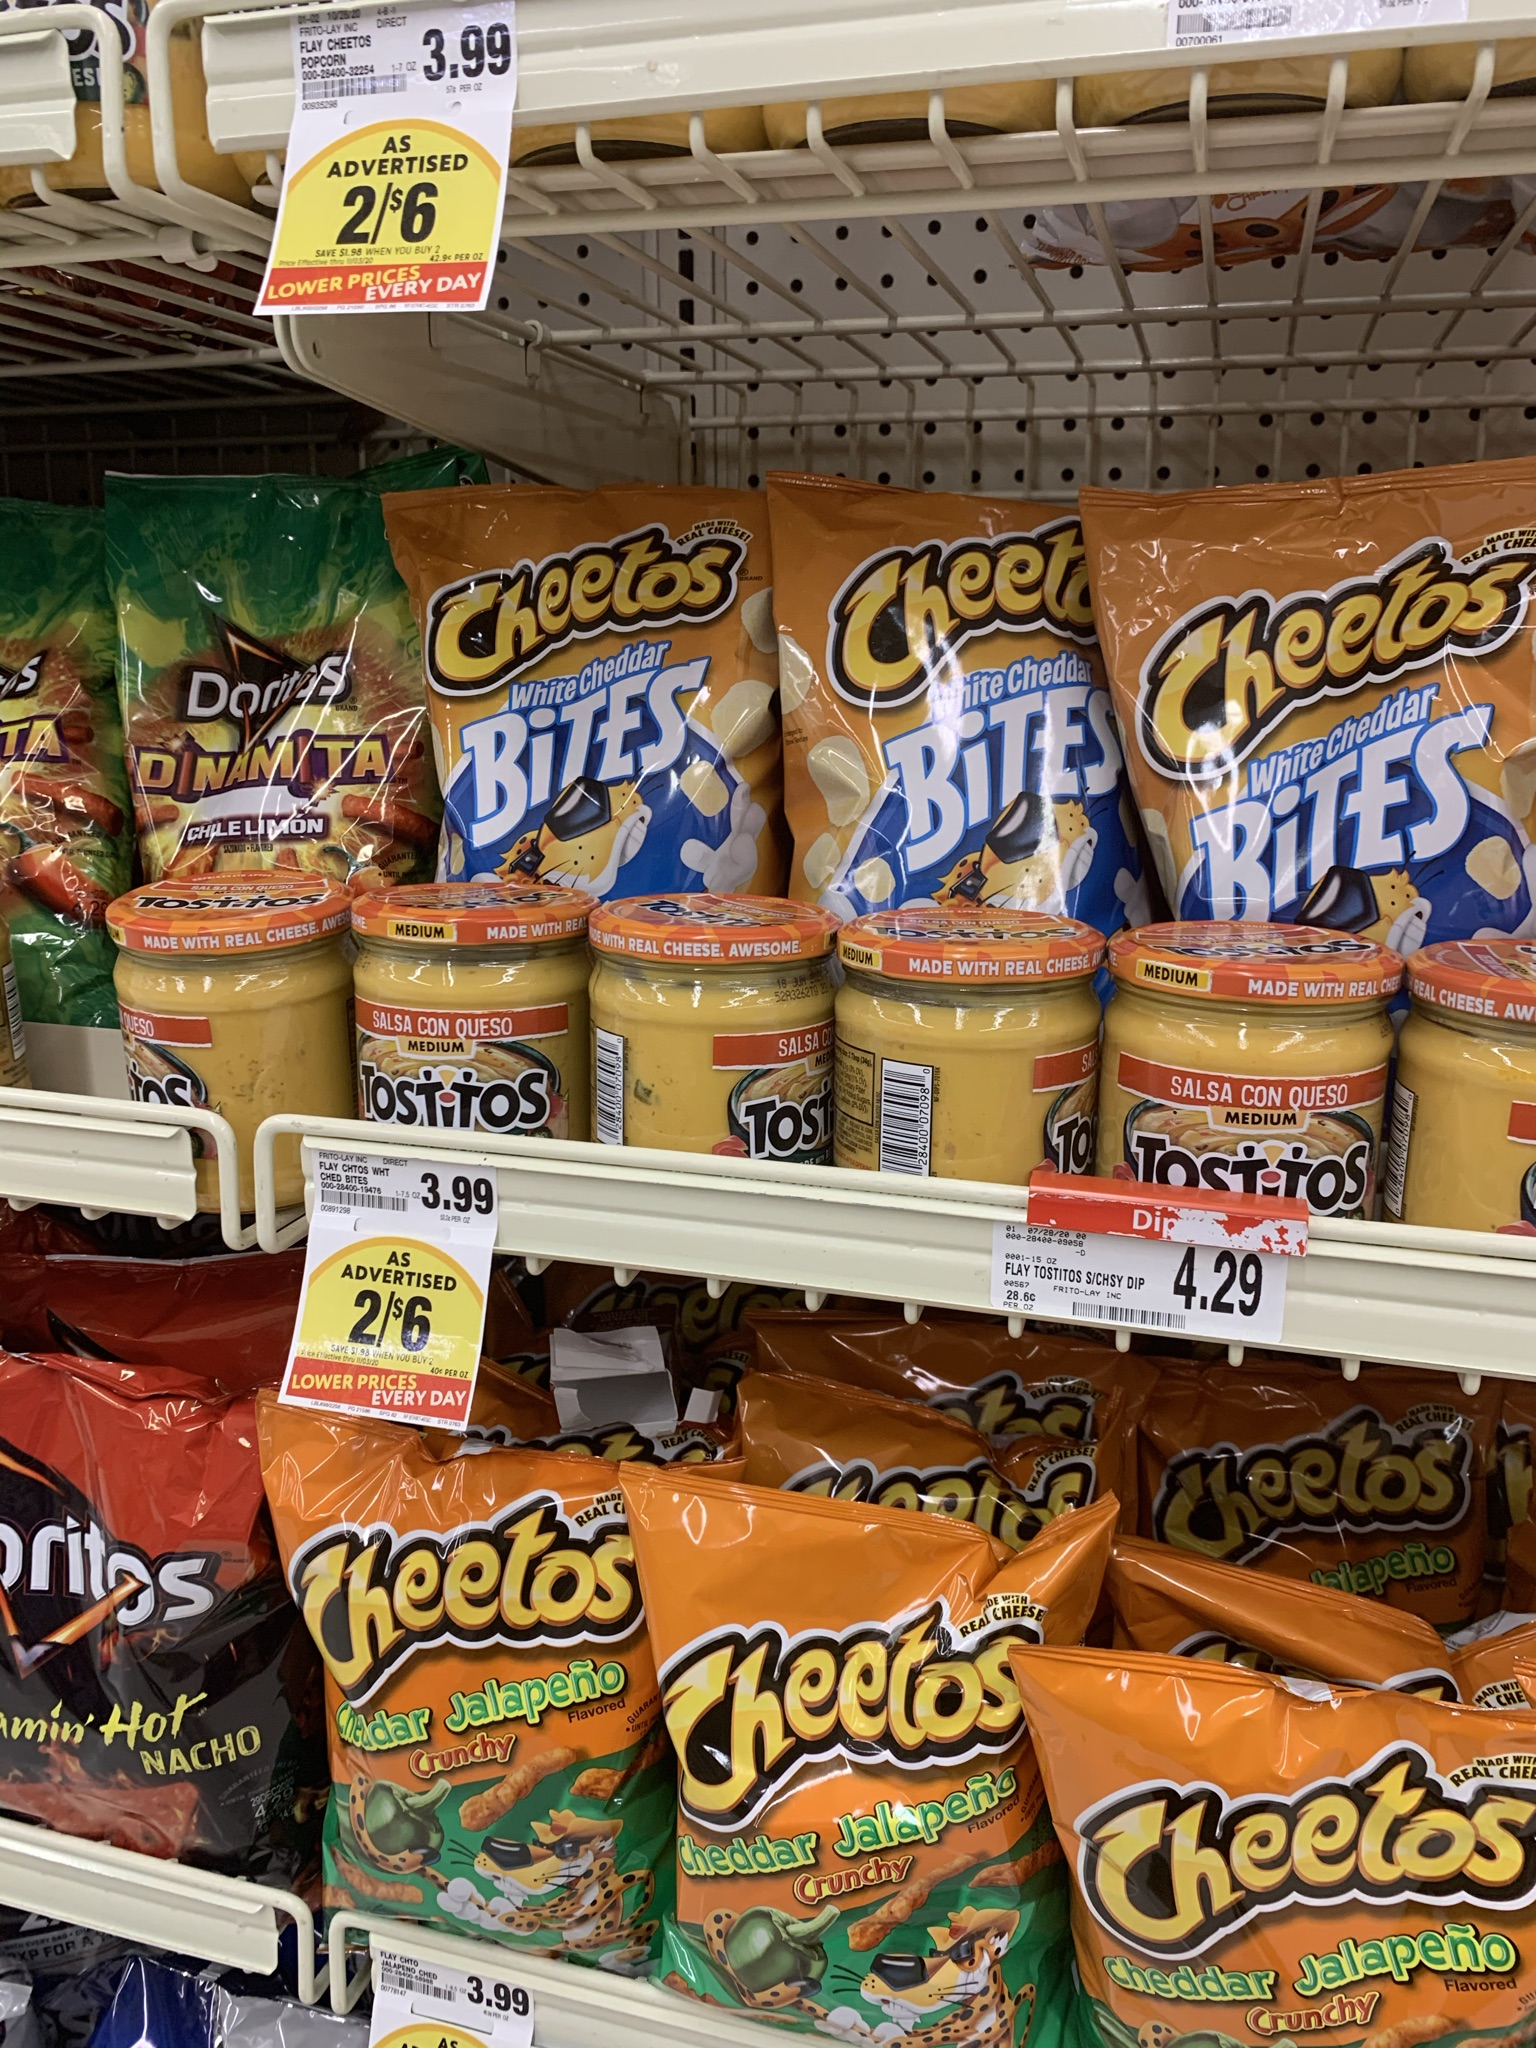Chips: (1096, 481, 1528, 930), (395, 468, 774, 893), (98, 464, 394, 880)
